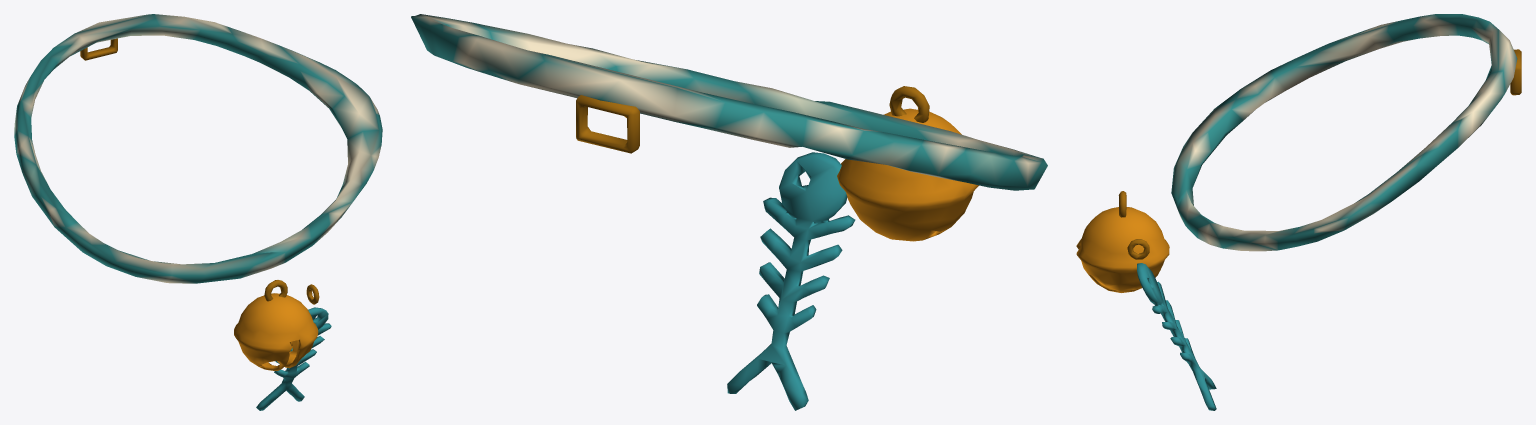
The model's file is vongluclac.glb.
The picture shows the model from 3 angles, left to right: view 1: azimuth 30°, elevation 25°; view 2: azimuth 150°, elevation 25°; view 3: azimuth 270°, elevation 25°; orthographic projection. The views are drawn at different scales.
Visible parts, largest first — view 1: Day_Tet, Luc_Lac, Xuong_Ca, Khoa_Day; view 2: Day_Tet, Xuong_Ca, Luc_Lac, Khoa_Day, Khoen_Lac; view 3: Day_Tet, Luc_Lac, Xuong_Ca.
Part boxes in pixels (left/top/right/bottom): Day_Tet: left=14, top=14, right=382, bottom=283; Luc_Lac: left=234, top=293, right=318, bottom=370; Xuong_Ca: left=256, top=307, right=331, bottom=410; Khoa_Day: left=80, top=38, right=117, bottom=60; Day_Tet: left=411, top=14, right=1047, bottom=190; Xuong_Ca: left=727, top=152, right=855, bottom=410; Luc_Lac: left=837, top=108, right=978, bottom=241; Khoa_Day: left=576, top=95, right=639, bottom=153; Khoen_Lac: left=889, top=86, right=929, bottom=122; Day_Tet: left=1171, top=14, right=1517, bottom=251; Luc_Lac: left=1076, top=207, right=1169, bottom=292; Xuong_Ca: left=1137, top=263, right=1216, bottom=410.
Size of the model in its own units: 0.2317 by 0.1939 by 0.2373.
